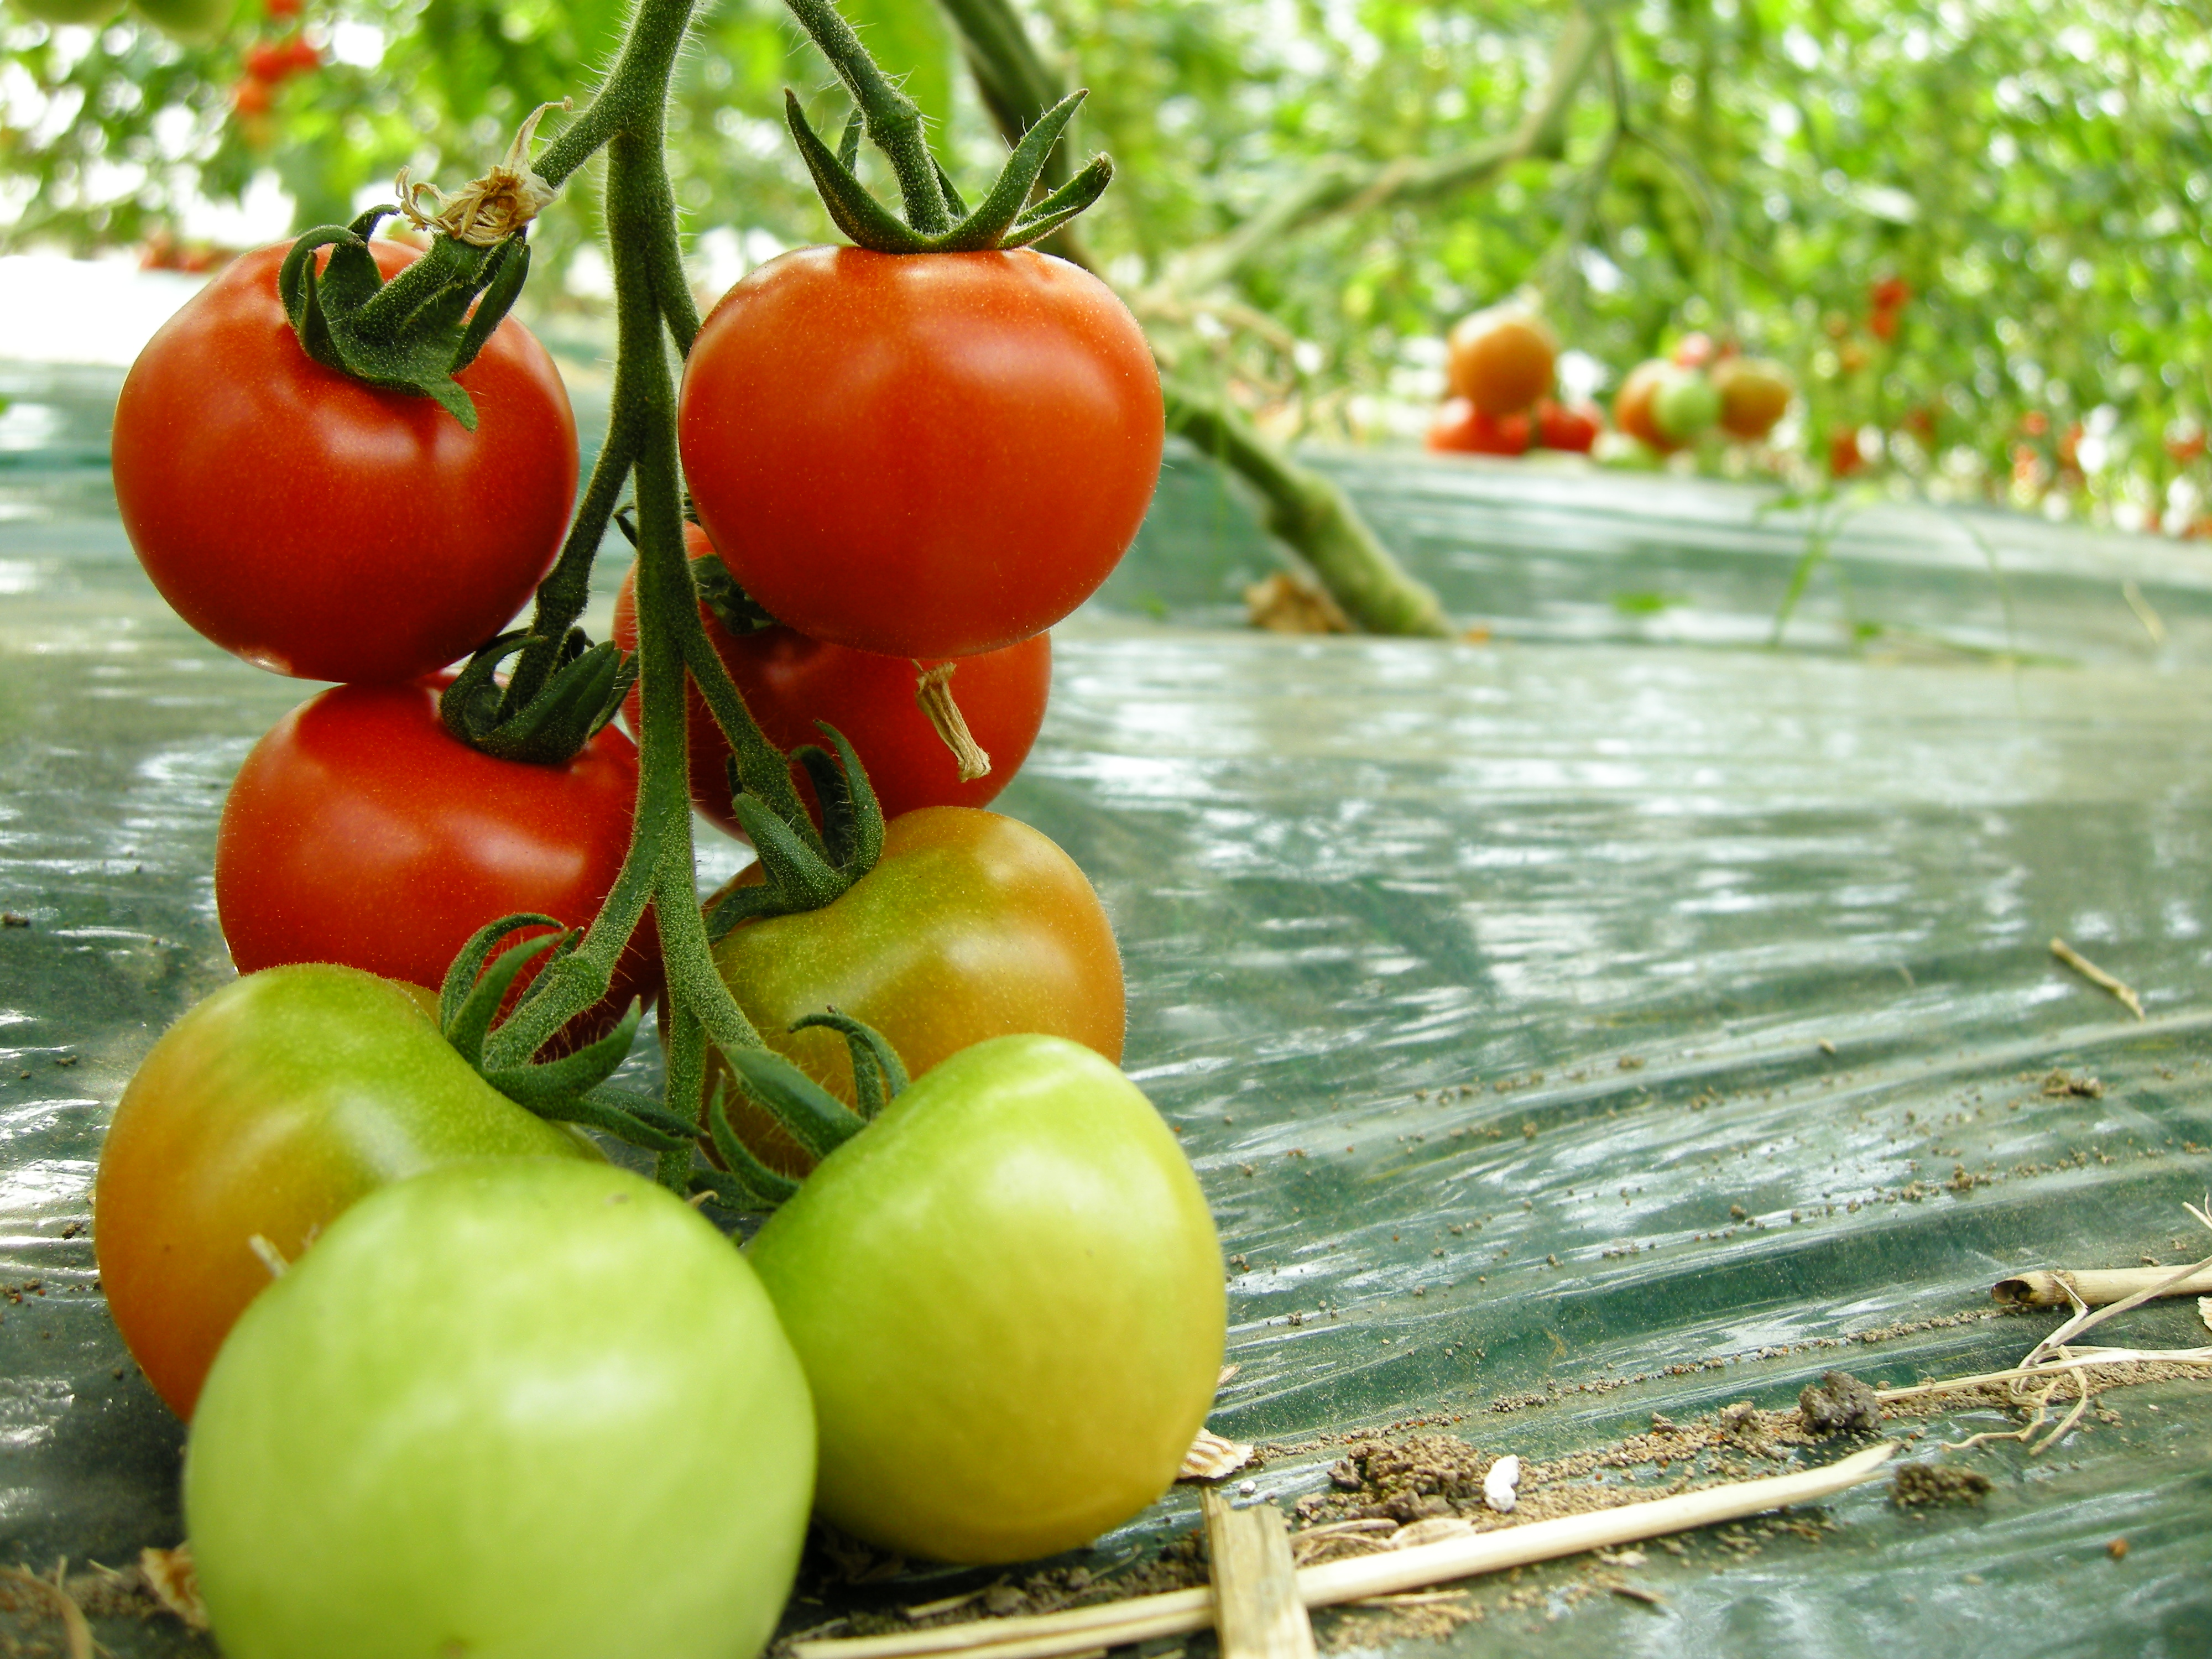stems: (354, 122, 587, 354), (458, 495, 644, 735)
tomato: (171, 1126, 815, 1657), (732, 1033, 1223, 1595), (674, 239, 1183, 666), (122, 277, 613, 694), (105, 985, 566, 1406), (669, 798, 1136, 1178), (218, 673, 664, 990)
